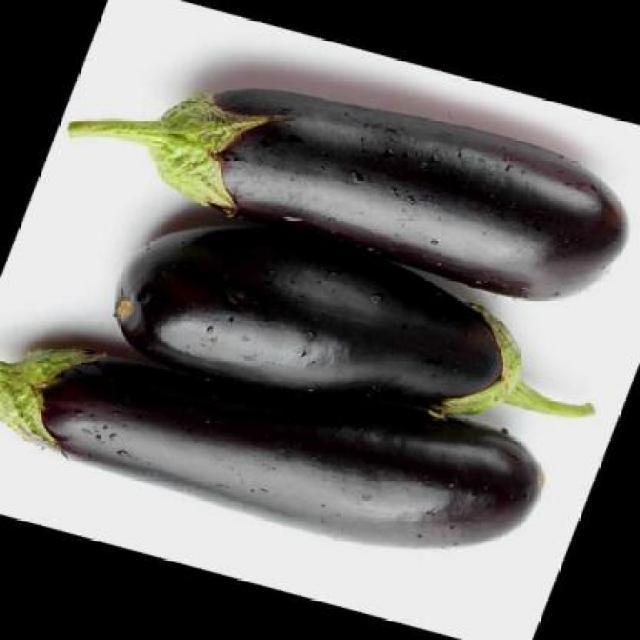eggplant: (93, 192, 630, 476), (0, 290, 557, 550), (48, 74, 640, 308)
